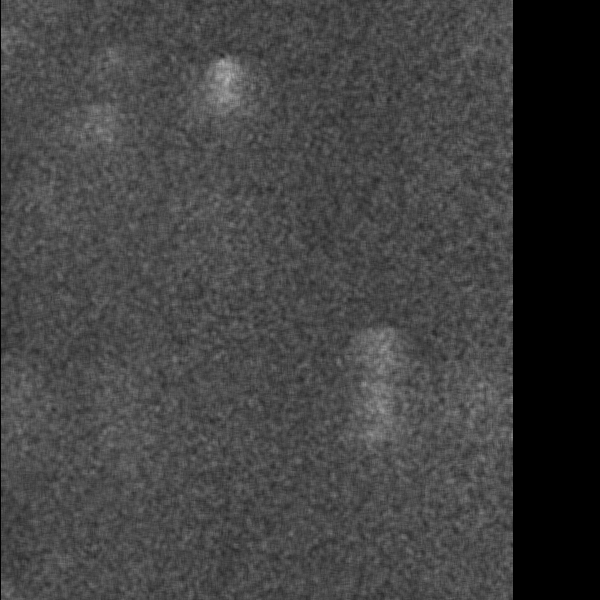spark: (356, 311, 386, 498), (210, 51, 237, 153), (76, 104, 108, 148)
